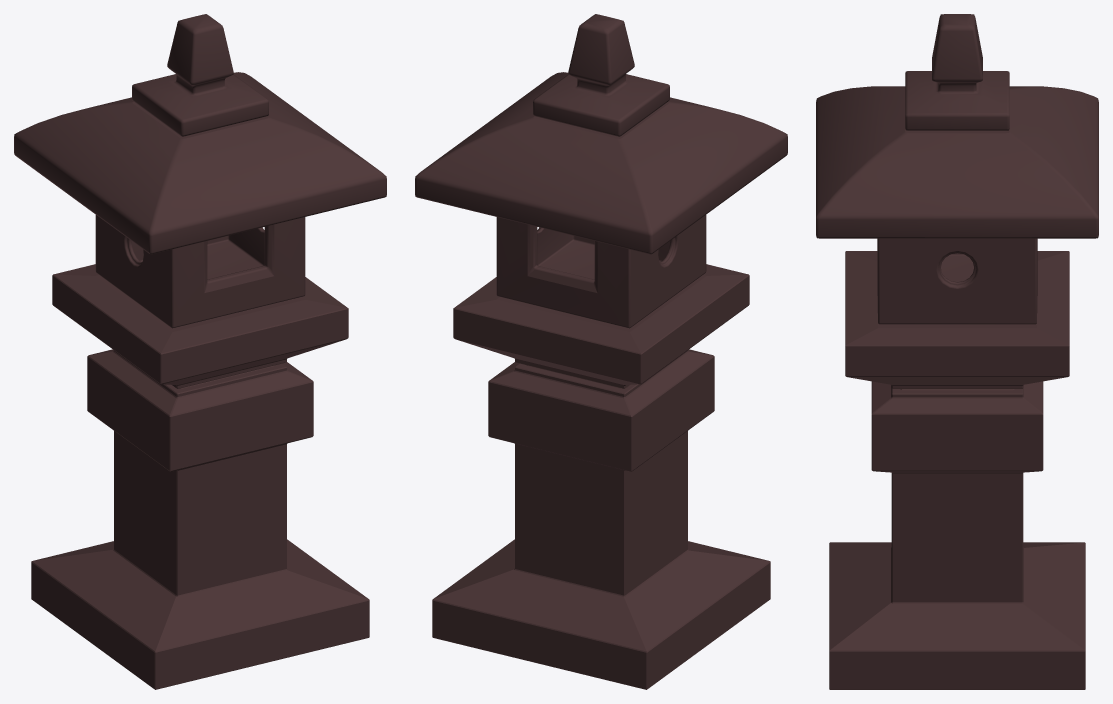
File: Lantern.fbx
3 views of the same model, side by side, from view 1: azimuth 30°, elevation 25°; view 2: azimuth 150°, elevation 25°; view 3: azimuth 270°, elevation 25° (orthographic). The views are drawn at different scales.
Parts seen in each view (by area): view 1: mesh_Lantern, Hat, Flame_Holder, Tip; view 2: mesh_Lantern, Hat, Flame_Holder, Tip; view 3: mesh_Lantern, Hat, Flame_Holder, Tip.
Boxes of the visible parts, x1,y1,x2,y2 form: mesh_Lantern: (31,264,369,689); Hat: (14,72,386,254); Flame_Holder: (95,215,305,328); Tip: (132,14,268,136); mesh_Lantern: (432,264,770,689); Hat: (415,72,787,254); Flame_Holder: (496,215,706,328); Tip: (533,14,669,136); mesh_Lantern: (829,251,1085,689); Hat: (816,86,1098,238); Flame_Holder: (877,238,1037,324); Tip: (905,14,1009,130).
Size of the model in its own units: 243 by 585 by 243.
